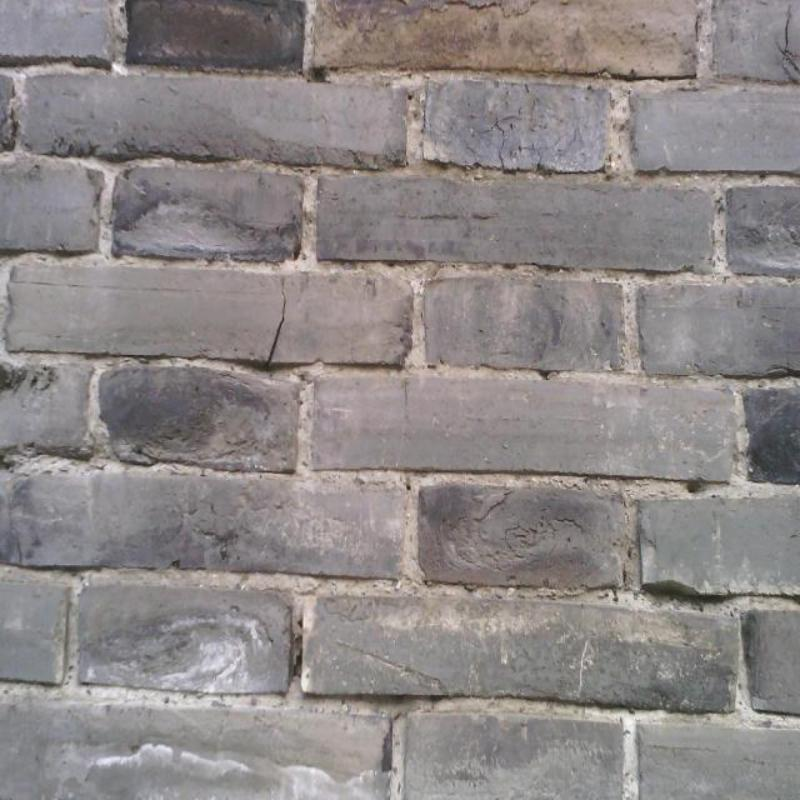pothole: (774, 6, 799, 84), (267, 280, 287, 363), (515, 139, 561, 169), (494, 123, 505, 171), (294, 648, 302, 676), (404, 379, 409, 411), (688, 484, 701, 494), (541, 370, 550, 380), (314, 71, 322, 82)
